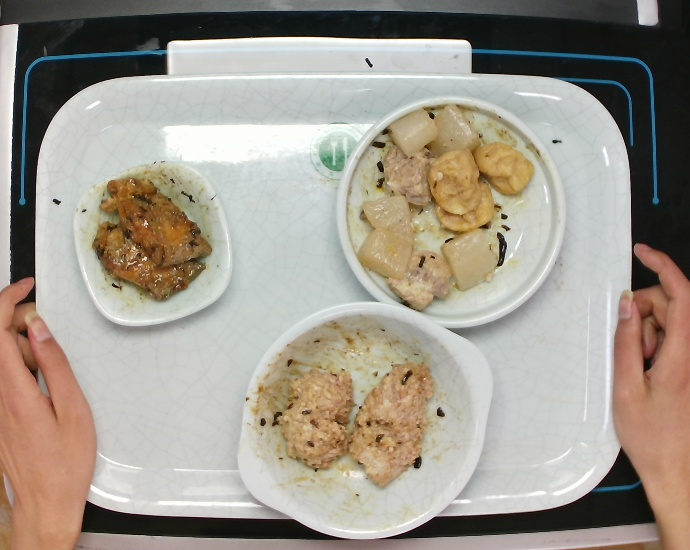JYsf-Shuang_Er_Wan: (229, 292, 494, 545)
JYsf-Si_Fang_Die: (71, 148, 234, 331)
JYsf-Xiao_Yuan_Pan: (331, 89, 571, 339)
